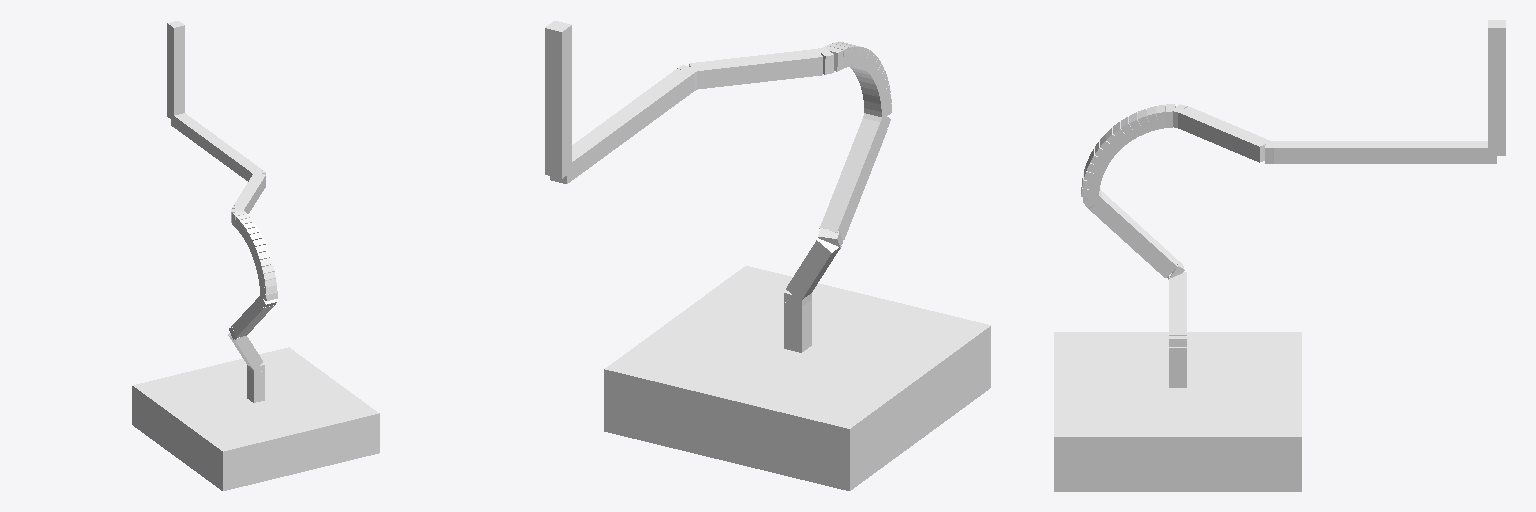
URDF robot description (maze_E):
<?xml version="1.0"?>
<robot name="maze_E">
  <link name="mazeLink">
    <material name="maze_white"><color rgba="1 1 1 1"/></material>
    <visual>
      <origin xyz="0.032679 0.180000 0.200000" rpy="0.000000 3.141593 0.000000" />
      <geometry>
        <box size="0.010000 0.010000 0.080000" />
      </geometry>
      <material name="maze_white" />
    </visual>
    <visual>
      <origin xyz="0.032679 0.140000 0.160000" rpy="0.000000 1.570796 -1.570796" />
      <geometry>
        <box size="0.010000 0.010000 0.080000" />
      </geometry>
      <material name="maze_white" />
    </visual>
    <visual>
      <origin xyz="0.032679 0.089854 0.160000" rpy="0.000000 1.570796 -1.570796" />
      <geometry>
        <box size="0.010000 0.010000 0.020292" />
      </geometry>
      <material name="maze_white" />
    </visual>
    <collision>
      <origin xyz="0.032679 0.089854 0.160000" rpy="0.000000 1.570796 -1.570796" />
      <geometry>
        <box size="0.010000 0.010000 0.020292" />
      </geometry>
    </collision>
    <visual>
      <origin xyz="0.032679 0.069562 0.160000" rpy="0.000000 1.570796 -1.570796" />
      <geometry>
        <box size="0.010000 0.010000 0.020292" />
      </geometry>
      <material name="maze_white" />
    </visual>
    <collision>
      <origin xyz="0.032679 0.069562 0.160000" rpy="0.000000 1.570796 -1.570796" />
      <geometry>
        <box size="0.010000 0.010000 0.020292" />
      </geometry>
    </collision>
    <visual>
      <origin xyz="0.032679 0.056880 0.160000" rpy="0.000000 1.570796 -1.570796" />
      <geometry>
        <box size="0.010000 0.010000 0.005073" />
      </geometry>
      <material name="maze_white" />
    </visual>
    <collision>
      <origin xyz="0.032679 0.056880 0.160000" rpy="0.000000 1.570796 -1.570796" />
      <geometry>
        <box size="0.010000 0.010000 0.005073" />
      </geometry>
    </collision>
    <visual>
      <origin xyz="0.032422 0.051914 0.160000" rpy="0.000000 1.570796 -1.676583" />
      <geometry>
        <box size="0.010000 0.010000 0.004887" />
      </geometry>
      <material name="maze_white" />
    </visual>
    <collision>
      <origin xyz="0.032422 0.051914 0.160000" rpy="0.000000 1.570796 -1.676583" />
      <geometry>
        <box size="0.010000 0.010000 0.004887" />
      </geometry>
    </collision>
    <visual>
      <origin xyz="0.030370 0.047690 0.160000" rpy="0.000000 1.570796 -2.356194" />
      <geometry>
        <box size="0.010000 0.010000 0.005073" />
      </geometry>
      <material name="maze_white" />
    </visual>
    <collision>
      <origin xyz="0.030370 0.047690 0.160000" rpy="0.000000 1.570796 -2.356194" />
      <geometry>
        <box size="0.010000 0.010000 0.005073" />
      </geometry>
    </collision>
    <visual>
      <origin xyz="0.021402 0.038723 0.160000" rpy="0.000000 1.570796 -2.356194" />
      <geometry>
        <box size="0.010000 0.010000 0.020292" />
      </geometry>
      <material name="maze_white" />
    </visual>
    <collision>
      <origin xyz="0.021402 0.038723 0.160000" rpy="0.000000 1.570796 -2.356194" />
      <geometry>
        <box size="0.010000 0.010000 0.020292" />
      </geometry>
    </collision>
    <visual>
      <origin xyz="0.007054 0.024374 0.160000" rpy="0.000000 1.570796 -2.356194" />
      <geometry>
        <box size="0.010000 0.010000 0.020292" />
      </geometry>
      <material name="maze_white" />
    </visual>
    <collision>
      <origin xyz="0.007054 0.024374 0.160000" rpy="0.000000 1.570796 -2.356194" />
      <geometry>
        <box size="0.010000 0.010000 0.020292" />
      </geometry>
    </collision>
    <visual>
      <origin xyz="-0.003708 0.013613 0.160000" rpy="0.000000 1.570796 -2.356194" />
      <geometry>
        <box size="0.010000 0.010000 0.010146" />
      </geometry>
      <material name="maze_white" />
    </visual>
    <collision>
      <origin xyz="-0.003708 0.013613 0.160000" rpy="0.000000 1.570796 -2.356194" />
      <geometry>
        <box size="0.010000 0.010000 0.010146" />
      </geometry>
    </collision>
    <visual>
      <origin xyz="-0.009088 0.008232 0.160000" rpy="0.000000 1.570796 -2.356194" />
      <geometry>
        <box size="0.010000 0.010000 0.005073" />
      </geometry>
      <material name="maze_white" />
    </visual>
    <collision>
      <origin xyz="-0.009088 0.008232 0.160000" rpy="0.000000 1.570796 -2.356194" />
      <geometry>
        <box size="0.010000 0.010000 0.005073" />
      </geometry>
    </collision>
    <visual>
      <origin xyz="-0.012676 0.004645 0.159994" rpy="0.000000 1.573336 -2.356194" />
      <geometry>
        <box size="0.010000 0.010000 0.005073" />
      </geometry>
      <material name="maze_white" />
    </visual>
    <collision>
      <origin xyz="-0.012676 0.004645 0.159994" rpy="0.000000 1.573336 -2.356194" />
      <geometry>
        <box size="0.010000 0.010000 0.005073" />
      </geometry>
    </collision>
    <visual>
      <origin xyz="-0.015736 0.000707 0.159919" rpy="0.000000 1.598341 -2.104467" />
      <geometry>
        <box size="0.010000 0.010000 0.004983" />
      </geometry>
      <material name="maze_white" />
    </visual>
    <collision>
      <origin xyz="-0.015736 0.000707 0.159919" rpy="0.000000 1.598341 -2.104467" />
      <geometry>
        <box size="0.010000 0.010000 0.004983" />
      </geometry>
    </collision>
    <visual>
      <origin xyz="-0.017094 -0.003945 0.159638" rpy="0.000000 1.655154 -1.607185" />
      <geometry>
        <box size="0.010000 0.010000 0.005038" />
      </geometry>
      <material name="maze_white" />
    </visual>
    <collision>
      <origin xyz="-0.017094 -0.003945 0.159638" rpy="0.000000 1.655154 -1.607185" />
      <geometry>
        <box size="0.010000 0.010000 0.005038" />
      </geometry>
    </collision>
    <visual>
      <origin xyz="-0.017186 -0.008946 0.158964" rpy="0.000000 1.754018 -1.570796" />
      <geometry>
        <box size="0.010000 0.010000 0.005069" />
      </geometry>
      <material name="maze_white" />
    </visual>
    <collision>
      <origin xyz="-0.017186 -0.008946 0.158964" rpy="0.000000 1.754018 -1.570796" />
      <geometry>
        <box size="0.010000 0.010000 0.005069" />
      </geometry>
    </collision>
    <visual>
      <origin xyz="-0.017186 -0.013875 0.157804" rpy="0.000000 1.849563 -1.570796" />
      <geometry>
        <box size="0.010000 0.010000 0.005070" />
      </geometry>
      <material name="maze_white" />
    </visual>
    <collision>
      <origin xyz="-0.017186 -0.013875 0.157804" rpy="0.000000 1.849563 -1.570796" />
      <geometry>
        <box size="0.010000 0.010000 0.005070" />
      </geometry>
    </collision>
    <visual>
      <origin xyz="-0.017186 -0.018661 0.156155" rpy="0.000000 1.955947 -1.570796" />
      <geometry>
        <box size="0.010000 0.010000 0.005069" />
      </geometry>
      <material name="maze_white" />
    </visual>
    <collision>
      <origin xyz="-0.017186 -0.018661 0.156155" rpy="0.000000 1.955947 -1.570796" />
      <geometry>
        <box size="0.010000 0.010000 0.005069" />
      </geometry>
    </collision>
    <visual>
      <origin xyz="-0.017186 -0.023248 0.154012" rpy="0.000000 2.059557 -1.570796" />
      <geometry>
        <box size="0.010000 0.010000 0.005069" />
      </geometry>
      <material name="maze_white" />
    </visual>
    <collision>
      <origin xyz="-0.017186 -0.023248 0.154012" rpy="0.000000 2.059557 -1.570796" />
      <geometry>
        <box size="0.010000 0.010000 0.005069" />
      </geometry>
    </collision>
    <visual>
      <origin xyz="-0.017186 -0.027600 0.151424" rpy="0.000000 2.155101 -1.570796" />
      <geometry>
        <box size="0.010000 0.010000 0.005070" />
      </geometry>
      <material name="maze_white" />
    </visual>
    <collision>
      <origin xyz="-0.017186 -0.027600 0.151424" rpy="0.000000 2.155101 -1.570796" />
      <geometry>
        <box size="0.010000 0.010000 0.005070" />
      </geometry>
    </collision>
    <visual>
      <origin xyz="-0.017186 -0.031669 0.148413" rpy="0.000000 2.260618 -1.570796" />
      <geometry>
        <box size="0.010000 0.010000 0.005069" />
      </geometry>
      <material name="maze_white" />
    </visual>
    <collision>
      <origin xyz="-0.017186 -0.031669 0.148413" rpy="0.000000 2.260618 -1.570796" />
      <geometry>
        <box size="0.010000 0.010000 0.005069" />
      </geometry>
    </collision>
    <visual>
      <origin xyz="-0.017186 -0.035401 0.144991" rpy="0.000000 2.365097 -1.570796" />
      <geometry>
        <box size="0.010000 0.010000 0.005069" />
      </geometry>
      <material name="maze_white" />
    </visual>
    <collision>
      <origin xyz="-0.017186 -0.035401 0.144991" rpy="0.000000 2.365097 -1.570796" />
      <geometry>
        <box size="0.010000 0.010000 0.005069" />
      </geometry>
    </collision>
    <visual>
      <origin xyz="-0.017186 -0.038773 0.141214" rpy="0.000000 2.460640 -1.570796" />
      <geometry>
        <box size="0.010000 0.010000 0.005069" />
      </geometry>
      <material name="maze_white" />
    </visual>
    <collision>
      <origin xyz="-0.017186 -0.038773 0.141214" rpy="0.000000 2.460640 -1.570796" />
      <geometry>
        <box size="0.010000 0.010000 0.005069" />
      </geometry>
    </collision>
    <visual>
      <origin xyz="-0.017186 -0.041750 0.137119" rpy="0.000000 2.565289 -1.570796" />
      <geometry>
        <box size="0.010000 0.010000 0.005069" />
      </geometry>
      <material name="maze_white" />
    </visual>
    <collision>
      <origin xyz="-0.017186 -0.041750 0.137119" rpy="0.000000 2.565289 -1.570796" />
      <geometry>
        <box size="0.010000 0.010000 0.005069" />
      </geometry>
    </collision>
    <visual>
      <origin xyz="-0.017186 -0.044281 0.132735" rpy="0.000000 2.670635 -1.570796" />
      <geometry>
        <box size="0.010000 0.010000 0.005070" />
      </geometry>
      <material name="maze_white" />
    </visual>
    <collision>
      <origin xyz="-0.017186 -0.044281 0.132735" rpy="0.000000 2.670635 -1.570796" />
      <geometry>
        <box size="0.010000 0.010000 0.005070" />
      </geometry>
    </collision>
    <visual>
      <origin xyz="-0.017186 -0.046360 0.128118" rpy="0.000000 2.766179 -1.570796" />
      <geometry>
        <box size="0.010000 0.010000 0.005069" />
      </geometry>
      <material name="maze_white" />
    </visual>
    <collision>
      <origin xyz="-0.017186 -0.046360 0.128118" rpy="0.000000 2.766179 -1.570796" />
      <geometry>
        <box size="0.010000 0.010000 0.005069" />
      </geometry>
    </collision>
    <visual>
      <origin xyz="-0.017186 -0.047970 0.123318" rpy="0.000000 2.869961 -1.570796" />
      <geometry>
        <box size="0.010000 0.010000 0.005069" />
      </geometry>
      <material name="maze_white" />
    </visual>
    <collision>
      <origin xyz="-0.017186 -0.047970 0.123318" rpy="0.000000 2.869961 -1.570796" />
      <geometry>
        <box size="0.010000 0.010000 0.005069" />
      </geometry>
    </collision>
    <visual>
      <origin xyz="-0.017186 -0.049067 0.118376" rpy="0.000000 2.976174 -1.570796" />
      <geometry>
        <box size="0.010000 0.010000 0.005070" />
      </geometry>
      <material name="maze_white" />
    </visual>
    <collision>
      <origin xyz="-0.017186 -0.049067 0.118376" rpy="0.000000 2.976174 -1.570796" />
      <geometry>
        <box size="0.010000 0.010000 0.005070" />
      </geometry>
    </collision>
    <visual>
      <origin xyz="-0.017186 -0.049662 0.113347" rpy="0.000000 3.071718 -1.570796" />
      <geometry>
        <box size="0.010000 0.010000 0.005069" />
      </geometry>
      <material name="maze_white" />
    </visual>
    <collision>
      <origin xyz="-0.017186 -0.049662 0.113347" rpy="0.000000 3.071718 -1.570796" />
      <geometry>
        <box size="0.010000 0.010000 0.005069" />
      </geometry>
    </collision>
    <visual>
      <origin xyz="-0.017186 -0.048331 0.108914" rpy="0.000000 2.472077 1.570796" />
      <geometry>
        <box size="0.010000 0.010000 0.004860" />
      </geometry>
      <material name="maze_white" />
    </visual>
    <collision>
      <origin xyz="-0.017186 -0.048331 0.108914" rpy="0.000000 2.472077 1.570796" />
      <geometry>
        <box size="0.010000 0.010000 0.004860" />
      </geometry>
    </collision>
    <visual>
      <origin xyz="-0.017186 -0.045029 0.105215" rpy="0.000000 2.356194 1.570796" />
      <geometry>
        <box size="0.010000 0.010000 0.005073" />
      </geometry>
      <material name="maze_white" />
    </visual>
    <collision>
      <origin xyz="-0.017186 -0.045029 0.105215" rpy="0.000000 2.356194 1.570796" />
      <geometry>
        <box size="0.010000 0.010000 0.005073" />
      </geometry>
    </collision>
    <visual>
      <origin xyz="-0.017186 -0.036061 0.096247" rpy="0.000000 2.356194 1.570796" />
      <geometry>
        <box size="0.010000 0.010000 0.020292" />
      </geometry>
      <material name="maze_white" />
    </visual>
    <collision>
      <origin xyz="-0.017186 -0.036061 0.096247" rpy="0.000000 2.356194 1.570796" />
      <geometry>
        <box size="0.010000 0.010000 0.020292" />
      </geometry>
    </collision>
    <visual>
      <origin xyz="-0.017186 -0.021713 0.081898" rpy="0.000000 2.356194 1.570796" />
      <geometry>
        <box size="0.010000 0.010000 0.020292" />
      </geometry>
      <material name="maze_white" />
    </visual>
    <collision>
      <origin xyz="-0.017186 -0.021713 0.081898" rpy="0.000000 2.356194 1.570796" />
      <geometry>
        <box size="0.010000 0.010000 0.020292" />
      </geometry>
    </collision>
    <visual>
      <origin xyz="-0.017186 -0.010951 0.071137" rpy="0.000000 2.356194 1.570796" />
      <geometry>
        <box size="0.010000 0.010000 0.010146" />
      </geometry>
      <material name="maze_white" />
    </visual>
    <collision>
      <origin xyz="-0.017186 -0.010951 0.071137" rpy="0.000000 2.356194 1.570796" />
      <geometry>
        <box size="0.010000 0.010000 0.010146" />
      </geometry>
    </collision>
    <visual>
      <origin xyz="-0.017186 -0.005571 0.065756" rpy="0.000000 2.356194 1.570796" />
      <geometry>
        <box size="0.010000 0.010000 0.005073" />
      </geometry>
      <material name="maze_white" />
    </visual>
    <collision>
      <origin xyz="-0.017186 -0.005571 0.065756" rpy="0.000000 2.356194 1.570796" />
      <geometry>
        <box size="0.010000 0.010000 0.005073" />
      </geometry>
    </collision>
    <visual>
      <origin xyz="-0.017580 -0.001888 0.062548" rpy="0.000000 2.203681 1.776656" />
      <geometry>
        <box size="0.010000 0.010000 0.004785" />
      </geometry>
      <material name="maze_white" />
    </visual>
    <collision>
      <origin xyz="-0.017580 -0.001888 0.062548" rpy="0.000000 2.203681 1.776656" />
      <geometry>
        <box size="0.010000 0.010000 0.004785" />
      </geometry>
    </collision>
    <visual>
      <origin xyz="-0.016706 0.000000 0.058936" rpy="0.000000 2.617994 -0.000000" />
      <geometry>
        <box size="0.010000 0.010000 0.005073" />
      </geometry>
      <material name="maze_white" />
    </visual>
    <collision>
      <origin xyz="-0.016706 0.000000 0.058936" rpy="0.000000 2.617994 -0.000000" />
      <geometry>
        <box size="0.010000 0.010000 0.005073" />
      </geometry>
    </collision>
    <visual>
      <origin xyz="-0.010365 0.000000 0.047952" rpy="0.000000 2.617994 -0.000000" />
      <geometry>
        <box size="0.010000 0.010000 0.020292" />
      </geometry>
      <material name="maze_white" />
    </visual>
    <collision>
      <origin xyz="-0.010365 0.000000 0.047952" rpy="0.000000 2.617994 -0.000000" />
      <geometry>
        <box size="0.010000 0.010000 0.020292" />
      </geometry>
    </collision>
    <visual>
      <origin xyz="-0.004024 0.000000 0.036969" rpy="0.000000 2.617994 -0.000000" />
      <geometry>
        <box size="0.010000 0.010000 0.005073" />
      </geometry>
      <material name="maze_white" />
    </visual>
    <collision>
      <origin xyz="-0.004024 0.000000 0.036969" rpy="0.000000 2.617994 -0.000000" />
      <geometry>
        <box size="0.010000 0.010000 0.005073" />
      </geometry>
    </collision>
    <visual>
      <origin xyz="-0.001487 0.000000 0.032576" rpy="0.000000 2.617994 -0.000000" />
      <geometry>
        <box size="0.010000 0.010000 0.005073" />
      </geometry>
      <material name="maze_white" />
    </visual>
    <collision>
      <origin xyz="-0.001487 0.000000 0.032576" rpy="0.000000 2.617994 -0.000000" />
      <geometry>
        <box size="0.010000 0.010000 0.005073" />
      </geometry>
    </collision>
    <visual>
      <origin xyz="-0.000109 0.000000 0.027872" rpy="0.000000 3.097964 -0.000000" />
      <geometry>
        <box size="0.010000 0.010000 0.005019" />
      </geometry>
      <material name="maze_white" />
    </visual>
    <collision>
      <origin xyz="-0.000109 0.000000 0.027872" rpy="0.000000 3.097964 -0.000000" />
      <geometry>
        <box size="0.010000 0.010000 0.005019" />
      </geometry>
    </collision>
    <visual>
      <origin xyz="0.000000 0.000000 0.022828" rpy="0.000000 3.141593 0.000000" />
      <geometry>
        <box size="0.010000 0.010000 0.005073" />
      </geometry>
      <material name="maze_white" />
    </visual>
    <collision>
      <origin xyz="0.000000 0.000000 0.022828" rpy="0.000000 3.141593 0.000000" />
      <geometry>
        <box size="0.010000 0.010000 0.005073" />
      </geometry>
    </collision>
    <visual>
      <origin xyz="0.000000 0.000000 0.010146" rpy="0.000000 3.141593 0.000000" />
      <geometry>
        <box size="0.010000 0.010000 0.020292" />
      </geometry>
      <material name="maze_white" />
    </visual>
    <collision>
      <origin xyz="0.000000 0.000000 0.010146" rpy="0.000000 3.141593 0.000000" />
      <geometry>
        <box size="0.010000 0.010000 0.020292" />
      </geometry>
    </collision>
    <visual>
      <origin xyz="0 0 -0.017" rpy="0 0 0" />
      <geometry>
        <box size="0.14 0.14 0.034" />
      </geometry>
      <material name="maze_white" />
    </visual>
    <collision>
      <origin xyz="0 0 -0.017" rpy="0 0 0" />
      <geometry>
        <box size="0.14 0.14 0.034" />
      </geometry>
    </collision>
  </link>
</robot>

--- Render facts (derived) ---
Views: 3 orthographic renders of the robot side by side, from view 1: azimuth 30°, elevation 25°; view 2: azimuth 150°, elevation 25°; view 3: azimuth 270°, elevation 25°.
Model maze_E with 1 links and 0 joints (none), rooted at mazeLink, posed all joints at 0.
Visible links, largest first — view 1: mazeLink; view 2: mazeLink; view 3: mazeLink.
Boxes of the visible links, x1,y1,x2,y2 form: mazeLink: (132, 21, 379, 490); mazeLink: (545, 21, 990, 490); mazeLink: (1054, 20, 1505, 491).
Bounding box of the posed robot: 0.14 × 0.255 × 0.274 m (x, y, z).
Geometry: primitives only (box / cylinder / sphere), no mesh files.
